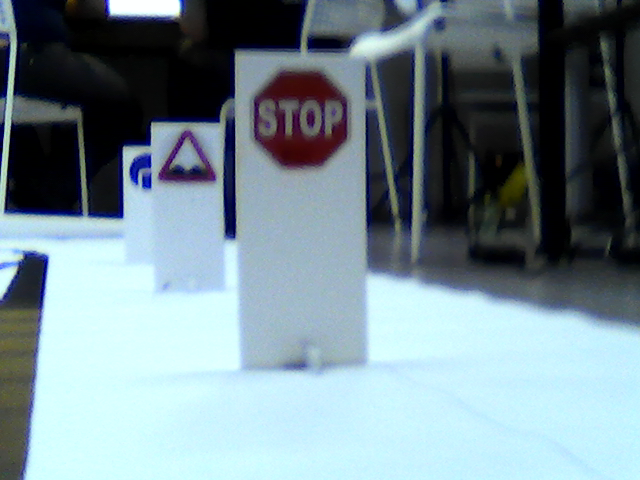Nerov: (156, 131, 213, 183)
Stop: (250, 64, 351, 172)
